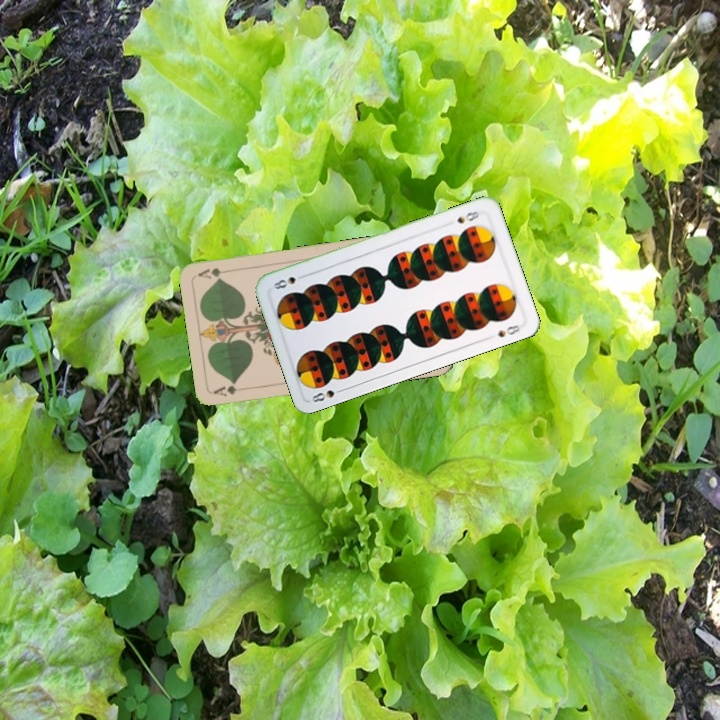GA: (210, 381, 250, 399)
S8: (308, 384, 347, 405), (453, 207, 483, 226)
